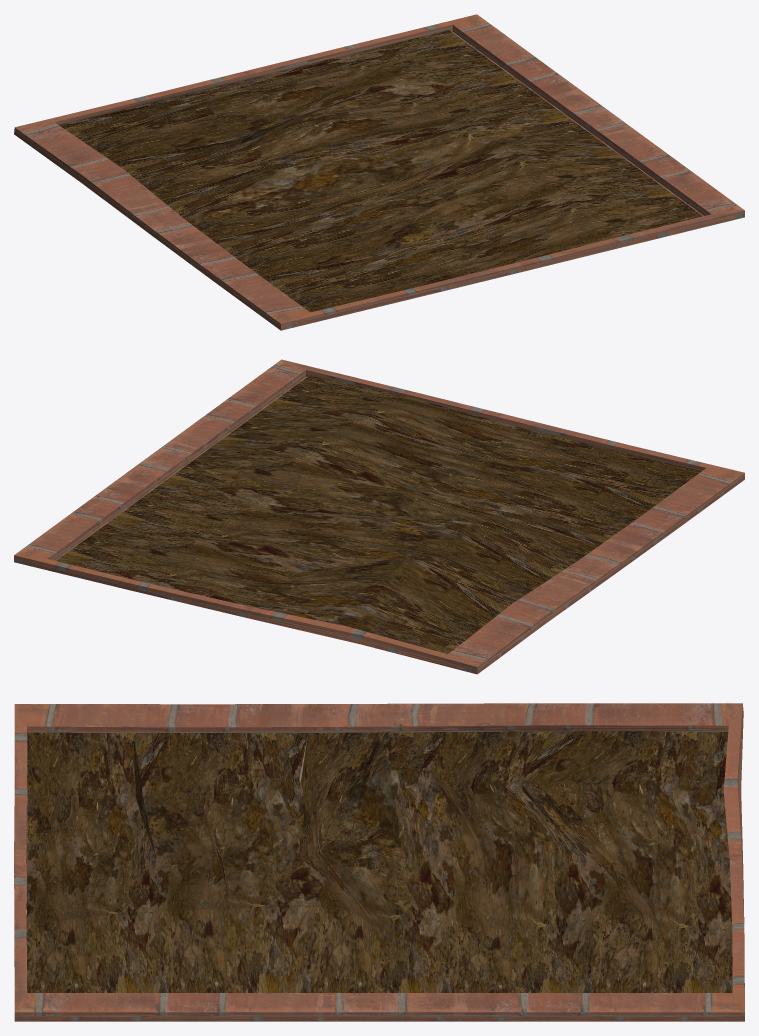
The model's file is squareplanterbox1.fbx.
3 views of the same model, one above another, from view 1: azimuth 30°, elevation 25°; view 2: azimuth 150°, elevation 25°; view 3: azimuth 270°, elevation 25° (orthographic). The views are drawn at different scales.
Parts seen in each view (by area): view 1: plantpot; view 2: plantpot; view 3: plantpot.
Boxes of the visible parts, x1,y1,x2,y2 form: plantpot: (14,14,744,330); plantpot: (14,359,744,674); plantpot: (14,703,744,1021).
Bounding box in the file's own units: 220 × 11.76 × 220.
